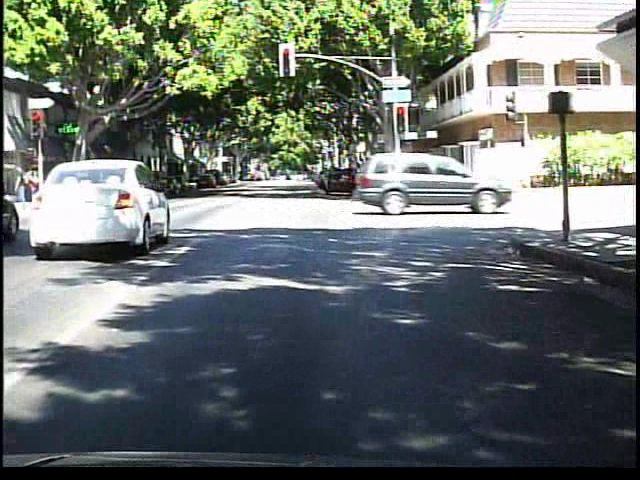person: (14, 160, 44, 205)
